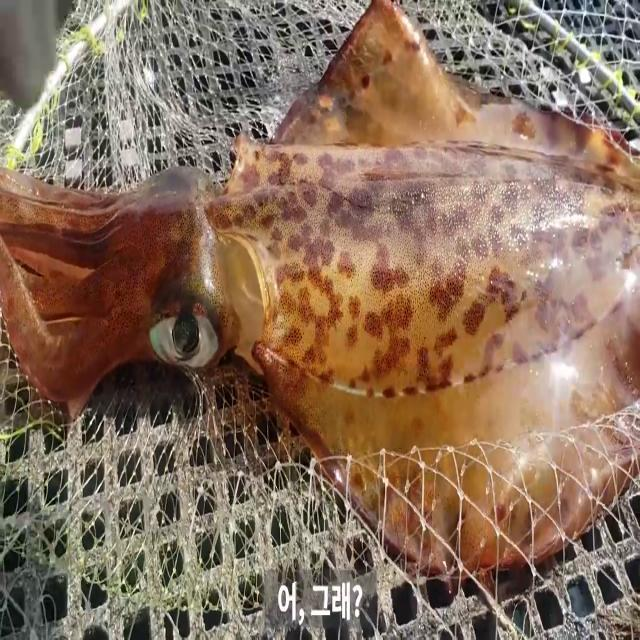SQUID: (3, 5, 627, 605)
